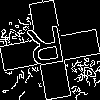R: (25, 25, 69, 76)
